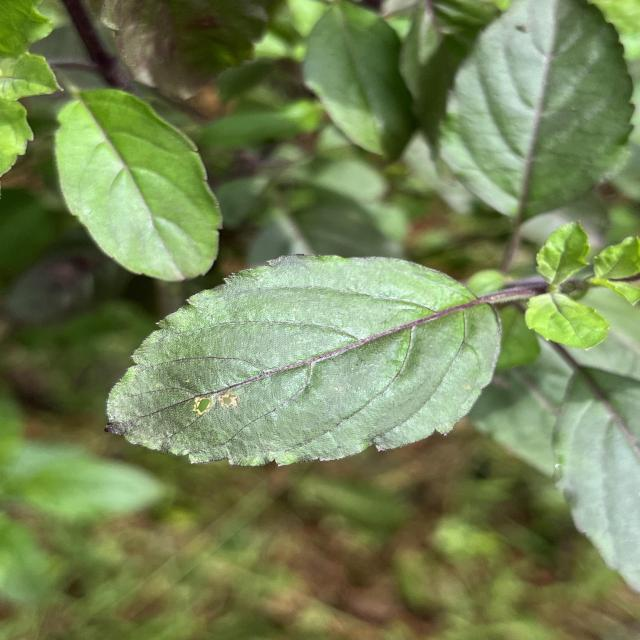Ocimum tenuiflorum: (104, 250, 508, 470)
